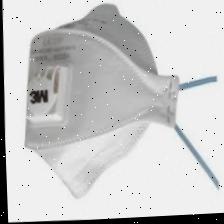mask: (17, 0, 220, 204)
